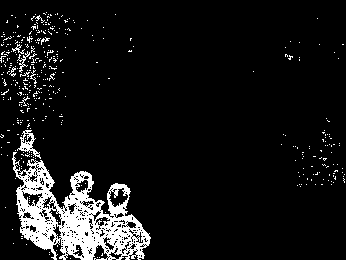person: (98, 183, 152, 259), (15, 170, 60, 257), (62, 170, 99, 259), (14, 129, 56, 188)
